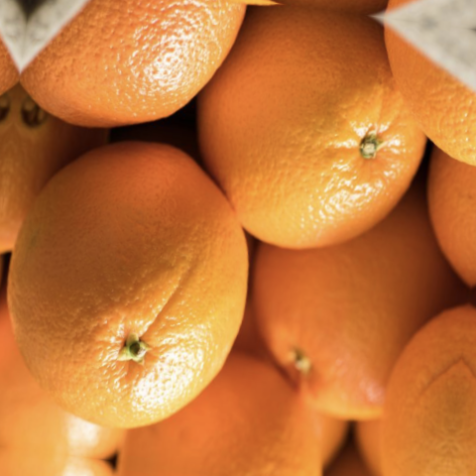orange: (0, 114, 280, 470), (165, 0, 458, 294)
